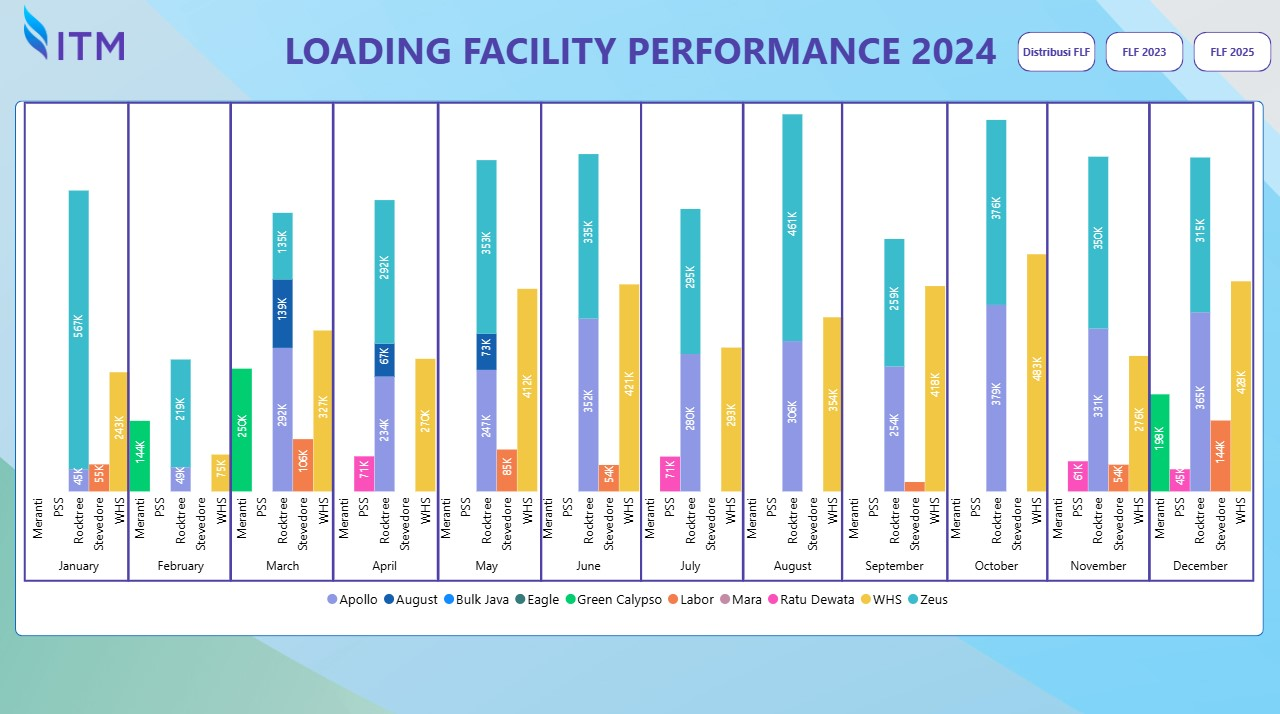

This screenshot's page, from the dashboard's own definition file:
{"tool":"powerbi","page":{"name":"FLF 2024","canvas":[1280,720],"ordinal":2},"visuals":[{"type":"shape","box":[15.5,102.4,1248.8,535.7],"z":0},{"type":"shape","box":[23.7,103.8,105.5,480],"z":1000,"group":"g1"},{"type":"columnChart","fields":{"Category":["Fact FLF.Month Name","Dim Mapping.Group"],"Series":["Fact FLF.FLF"],"Y":["Sum(Fact FLF.Amount)"]},"box":[15.3,102.1,1249.4,517.4],"z":1000},{"type":"textbox","box":[272.5,21.2,736.2,63.8],"z":2000},{"type":"shape","box":[127.5,103.8,103.8,480],"z":3000,"group":"g1"},{"type":"group","id":"g1","title":"Group 1","box":[23.7,103.8,1230.6,480],"z":3000},{"type":"shape","box":[229.7,103.8,103.8,480],"z":4000,"group":"g1"},{"type":"image","box":[0,1.4,148.2,65.9],"z":4000},{"type":"shape","box":[332.5,103.8,106.2,480],"z":5000,"group":"g1"},{"type":"pageNavigator","box":[1017.5,33.8,256.2,40],"z":5000},{"type":"shape","box":[437.5,103.8,105,480],"z":6000,"group":"g1"},{"type":"shape","box":[539.4,103.8,102.1,480],"z":7000,"group":"g1"},{"type":"shape","box":[639.9,103.8,103.8,480],"z":8000,"group":"g1"},{"type":"shape","box":[742,103.8,100.4,480],"z":9000,"group":"g1"},{"type":"shape","box":[840.7,103.8,107.2,480],"z":10000,"group":"g1"},{"type":"shape","box":[946.3,103.8,102.1,480],"z":11000,"group":"g1"},{"type":"shape","box":[1046.7,103.8,103.8,480],"z":12000,"group":"g1"},{"type":"shape","box":[1148.8,103.8,105.5,480],"z":13000,"group":"g1"}]}

Visuals, with their boxes in screenshot pixels (x1, y1, x2, y2), scaled from the page's 1280x720 canvas onto the 1280x714 screenshot:
shape: x1=16 y1=102 x2=1264 y2=633
shape: x1=24 y1=103 x2=129 y2=579
columnChart - Fact FLF.Month Name x Dim Mapping.Group: x1=15 y1=101 x2=1265 y2=614
textbox: x1=272 y1=21 x2=1009 y2=84
shape: x1=128 y1=103 x2=231 y2=579
"Group 1" group: x1=24 y1=103 x2=1254 y2=579
shape: x1=230 y1=103 x2=334 y2=579
image: x1=0 y1=1 x2=148 y2=67
shape: x1=332 y1=103 x2=439 y2=579
pageNavigator: x1=1018 y1=34 x2=1274 y2=73
shape: x1=438 y1=103 x2=542 y2=579
shape: x1=539 y1=103 x2=642 y2=579
shape: x1=640 y1=103 x2=744 y2=579
shape: x1=742 y1=103 x2=842 y2=579
shape: x1=841 y1=103 x2=948 y2=579
shape: x1=946 y1=103 x2=1048 y2=579
shape: x1=1047 y1=103 x2=1150 y2=579
shape: x1=1149 y1=103 x2=1254 y2=579
